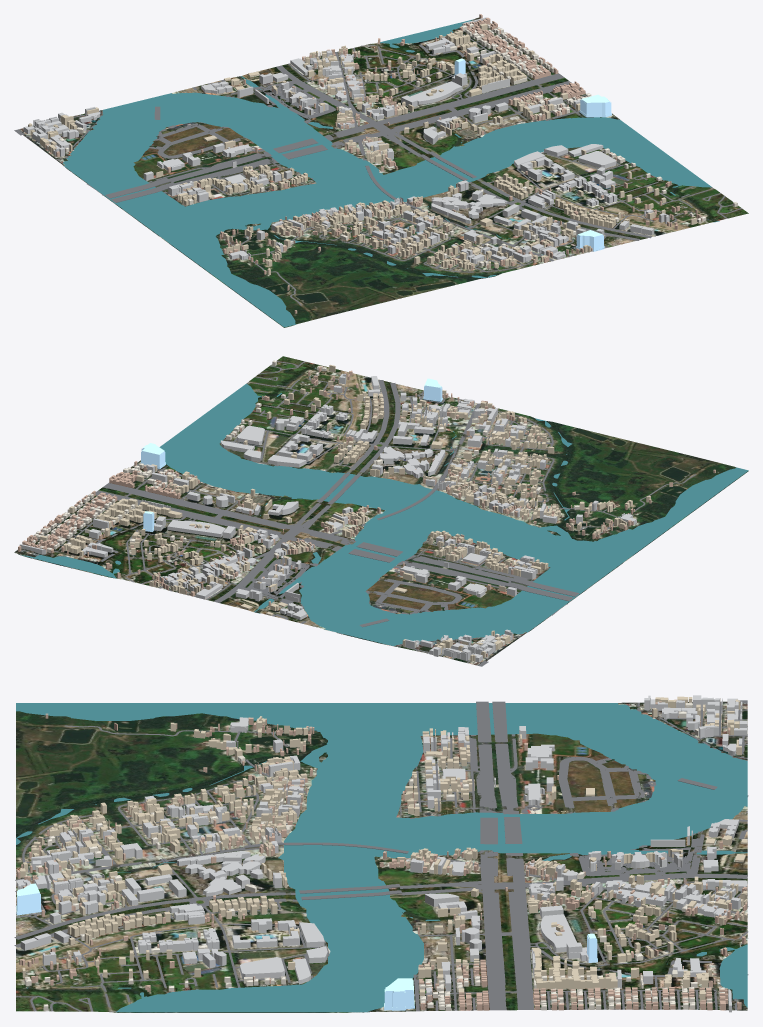
3 views of the same model, one above another, from view 1: azimuth 30°, elevation 25°; view 2: azimuth 150°, elevation 25°; view 3: azimuth 270°, elevation 25° (orthographic). The views are drawn at different scales.
Visible parts, largest first — view 1: MESH_01_TERRAIN, MESH_02_WATER, MESH_07_APARTMENT, MESH_05_SHOPHOUSE, MESH_03_ROAD_METRO, MESH_04_TUBE_HOUSE, MESH_06_VILLA, MESH_08_MODERN_TOWER; view 2: MESH_01_TERRAIN, MESH_02_WATER, MESH_07_APARTMENT, MESH_05_SHOPHOUSE, MESH_03_ROAD_METRO, MESH_04_TUBE_HOUSE, MESH_06_VILLA, MESH_08_MODERN_TOWER; view 3: MESH_01_TERRAIN, MESH_02_WATER, MESH_07_APARTMENT, MESH_03_ROAD_METRO, MESH_05_SHOPHOUSE, MESH_04_TUBE_HOUSE, MESH_06_VILLA, MESH_08_MODERN_TOWER.
Part boxes in pixels (x1,y1,x2,y2): MESH_01_TERRAIN: [19, 17, 748, 327]; MESH_02_WATER: [63, 19, 719, 327]; MESH_07_APARTMENT: [23, 17, 669, 264]; MESH_05_SHOPHOUSE: [28, 23, 696, 275]; MESH_03_ROAD_METRO: [14, 30, 741, 305]; MESH_04_TUBE_HOUSE: [31, 14, 702, 313]; MESH_06_VILLA: [46, 23, 737, 266]; MESH_08_MODERN_TOWER: [454, 58, 611, 251]; MESH_01_TERRAIN: [14, 356, 748, 665]; MESH_02_WATER: [19, 368, 748, 645]; MESH_07_APARTMENT: [19, 373, 636, 662]; MESH_05_SHOPHOUSE: [40, 364, 650, 661]; MESH_03_ROAD_METRO: [21, 361, 696, 666]; MESH_04_TUBE_HOUSE: [18, 366, 715, 656]; MESH_06_VILLA: [32, 360, 579, 645]; MESH_08_MODERN_TOWER: [140, 378, 442, 531]; MESH_01_TERRAIN: [16, 701, 747, 1012]; MESH_02_WATER: [16, 703, 747, 1012]; MESH_07_APARTMENT: [16, 695, 747, 1012]; MESH_03_ROAD_METRO: [14, 700, 748, 1012]; MESH_05_SHOPHOUSE: [16, 696, 747, 1007]; MESH_04_TUBE_HOUSE: [16, 699, 747, 1010]; MESH_06_VILLA: [24, 702, 724, 1010]; MESH_08_MODERN_TOWER: [16, 883, 597, 1010].
Size of the model in its own units: 2012 by 76.71 by 2010.
8 materials, 1 textured.
